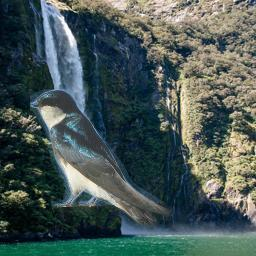Swallow: (30, 89, 173, 227)
